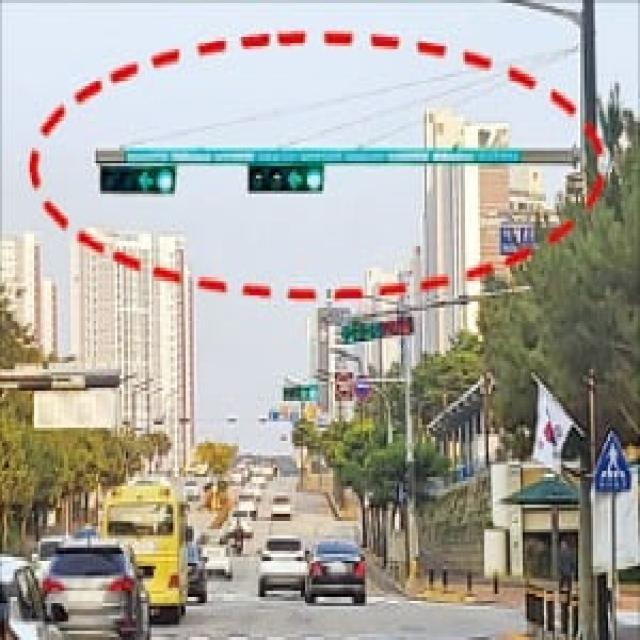Green_light: (94, 146, 182, 208), (248, 159, 330, 202)
